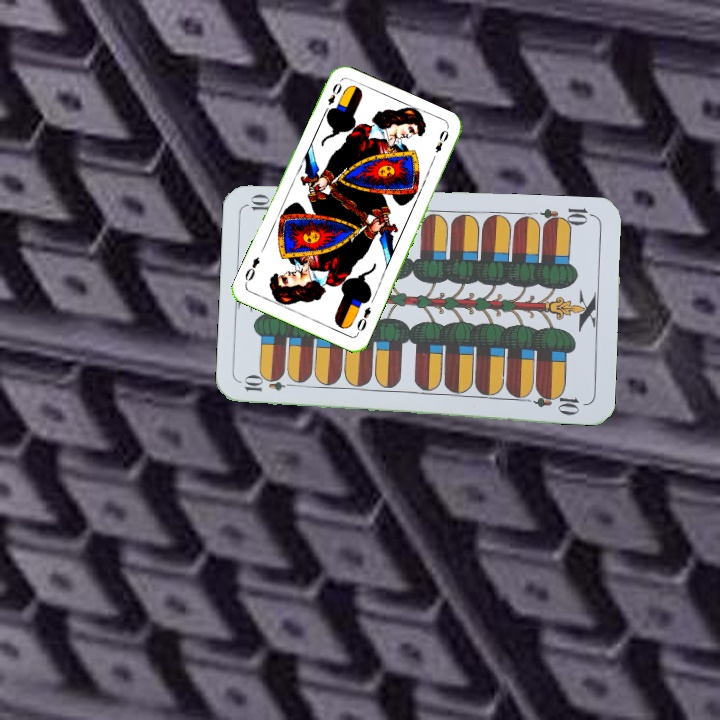E10: (537, 204, 596, 230), (240, 375, 299, 394)
EO: (320, 79, 344, 116), (353, 302, 374, 337)
